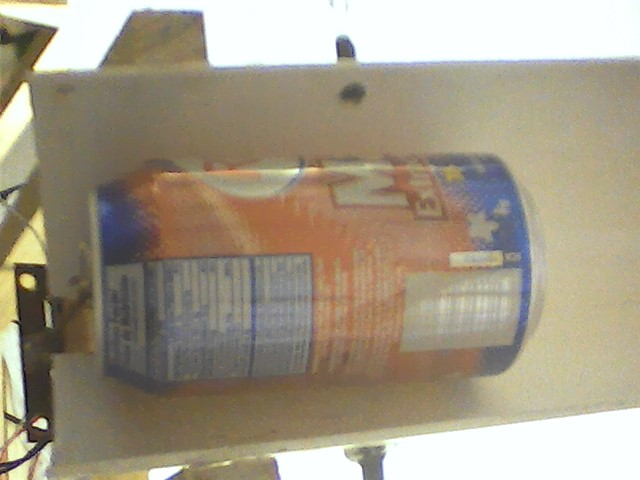lata: (86, 151, 551, 402)
